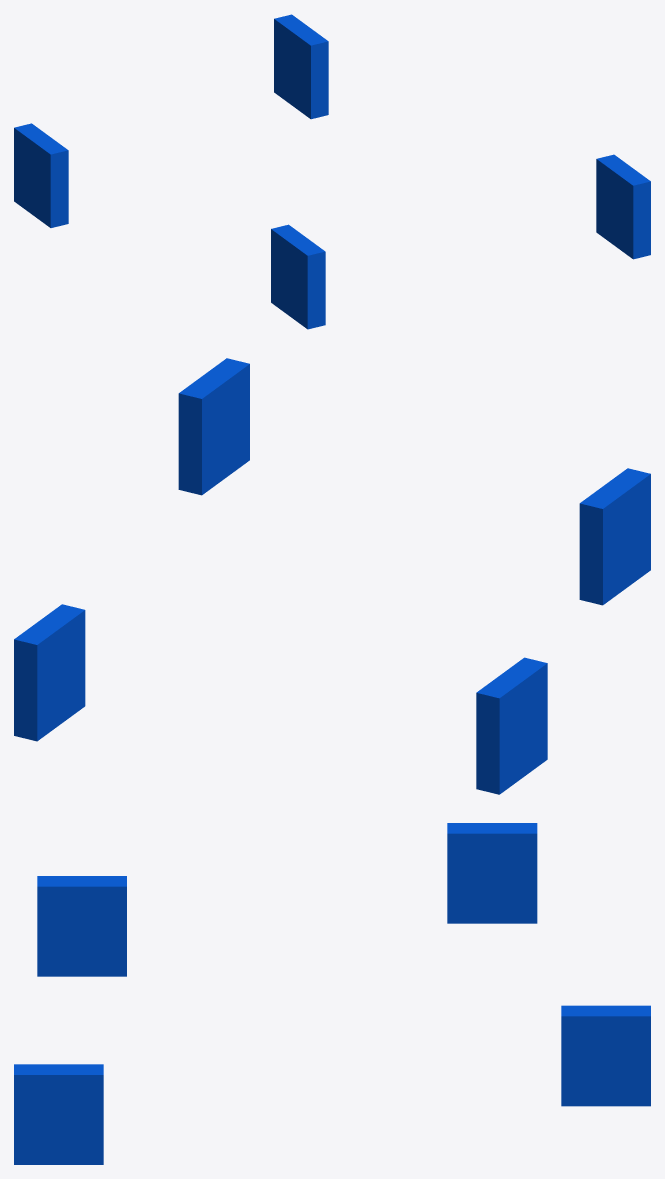
The model's file is BLUE_DOORS.glb.
3 views of the same model, one above another, from view 1: azimuth 30°, elevation 25°; view 2: azimuth 150°, elevation 25°; view 3: azimuth 270°, elevation 25° (orthographic). The views are drawn at different scales.
Parts seen in each view (by area): view 1: WALLSBLUE; view 2: WALLSBLUE; view 3: WALLSBLUE.
Part boxes in pixels (left/top/right/bottom): WALLSBLUE: left=14, top=14, right=650, bottom=329; WALLSBLUE: left=14, top=358, right=650, bottom=794; WALLSBLUE: left=14, top=823, right=650, bottom=1164.
Size of the model in its own units: 23.8 by 3.96 by 25.44.
